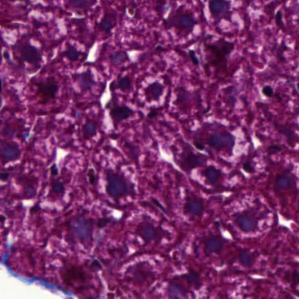inflammation: (92, 92, 149, 139), (163, 139, 220, 185), (95, 161, 143, 210)
